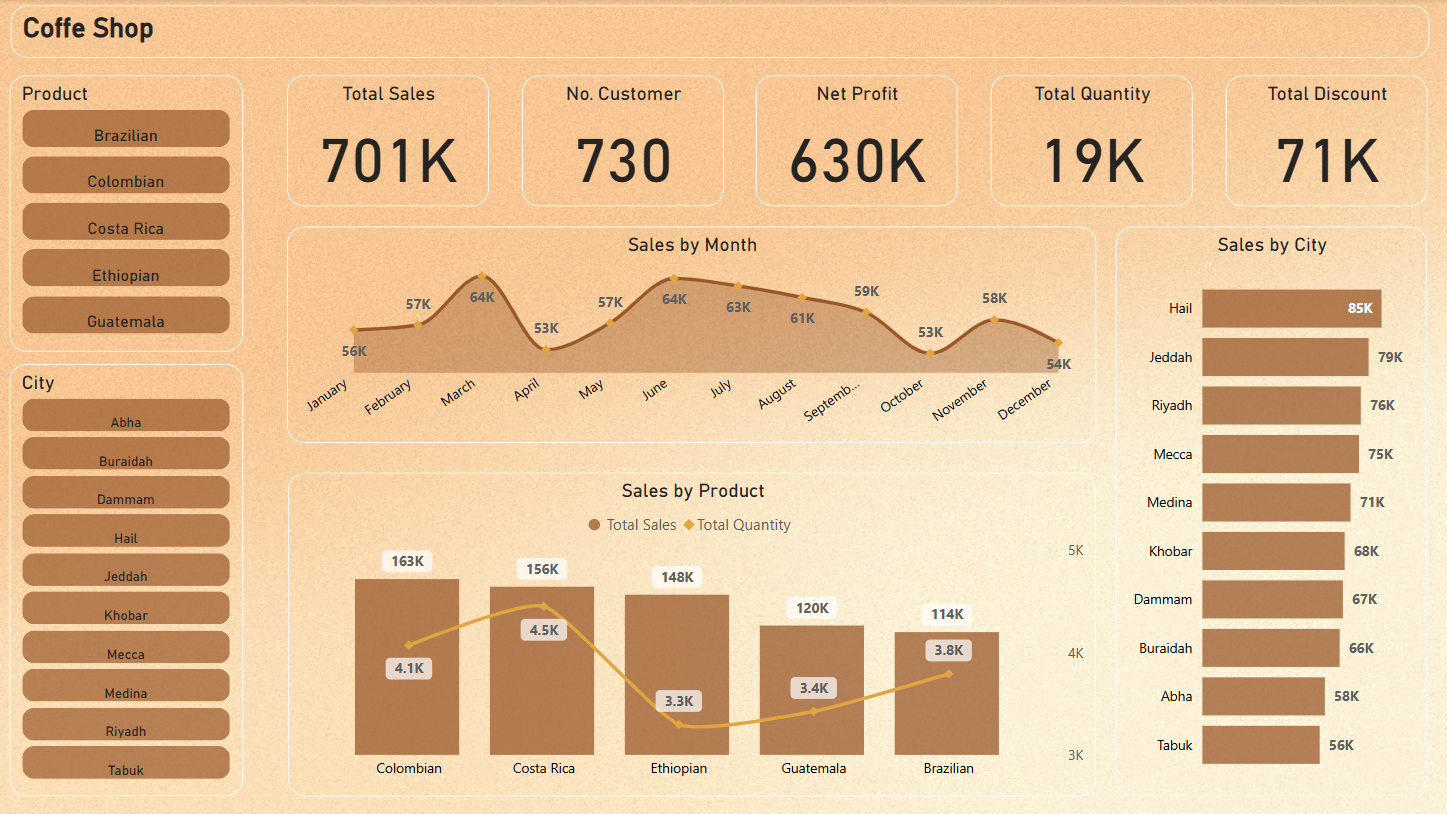

Layout of this report page (visuals, bound fields, positions):
{"tool":"powerbi","page":{"name":"Page 1","canvas":[1280,720],"ordinal":0},"visuals":[{"type":"advancedSlicerVisual","fields":{"Values":["Raw Data.City"]},"box":[10.7,321.4,206,379.8],"z":0},{"type":"advancedSlicerVisual","fields":{"Values":["Raw Data.Product"]},"box":[10.7,66.7,206,242.9],"z":1000},{"type":"card","title":"Total Sales","fields":{"Values":["Sum(Raw Data.Sales Amount)"]},"box":[254.8,66.9,177.4,115.5],"z":2000},{"type":"card","title":"No. Customer","fields":{"Values":["CountNonNull(Raw Data.Customer_ID)"]},"box":[461.3,66.9,177.4,115.5],"z":3000},{"type":"card","title":"Net Profit","fields":{"Values":["Sum(Raw Data.Final Sales)"]},"box":[667.9,66.9,177.4,115.5],"z":4000},{"type":"card","title":"Total Quantity","fields":{"Values":["Sum(Raw Data.Quantity)"]},"box":[874.4,66.9,177.4,115.5],"z":5000},{"type":"card","title":"Total Discount","fields":{"Values":["Sum(Raw Data.Discount_Amount)"]},"box":[1081,66.9,177.4,115.5],"z":6000},{"type":"lineChart","title":"Sales by Month","fields":{"Category":["Raw Data.Date.Variation.Date Hierarchy.Year","Raw Data.Date.Variation.Date Hierarchy.Quarter","Raw Data.Date.Variation.Date Hierarchy.Month","Raw Data.Date.Variation.Date Hierarchy.Day"],"Y":["Sum(Raw Data.Sales Amount)"]},"box":[254.8,200,711.9,190.5],"z":7000},{"type":"lineStackedColumnComboChart","title":"Sales by Product","fields":{"Category":["Raw Data.Product"],"Y":["Sum(Raw Data.Sales Amount)"],"Y2":["Sum(Raw Data.Quantity)"]},"box":[256,416.7,710.7,284.5],"z":8000},{"type":"clusteredBarChart","title":"Sales by City","fields":{"Category":["Raw Data.City"],"Y":["Sum(Raw Data.Sales Amount)"]},"box":[984.5,200,273.8,501.2],"z":9000},{"type":"textbox","title":"Coffe Shop","box":[11.9,6,1247.6,46.4],"z":10000}]}

Visuals, with their boxes in screenshot pixels (x1, y1, x2, y2), scaled from the page's 1280x720 canvas onto the 1447x814 screenshot:
advancedSlicerVisual - Raw Data.City: crop(12, 363, 245, 793)
advancedSlicerVisual - Raw Data.Product: crop(12, 75, 245, 350)
"Total Sales" card: crop(288, 76, 489, 206)
"No. Customer" card: crop(521, 76, 722, 206)
"Net Profit" card: crop(755, 76, 956, 206)
"Total Quantity" card: crop(988, 76, 1189, 206)
"Total Discount" card: crop(1222, 76, 1423, 206)
"Sales by Month" lineChart: crop(288, 226, 1093, 441)
"Sales by Product" lineStackedColumnComboChart: crop(289, 471, 1093, 793)
"Sales by City" clusteredBarChart: crop(1113, 226, 1422, 793)
"Coffe Shop" textbox: crop(13, 7, 1424, 59)
